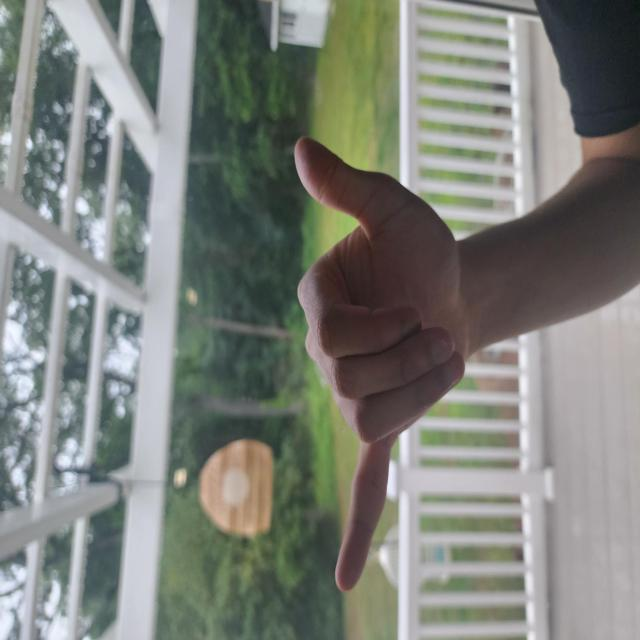Y: (33, 388, 383, 632)
